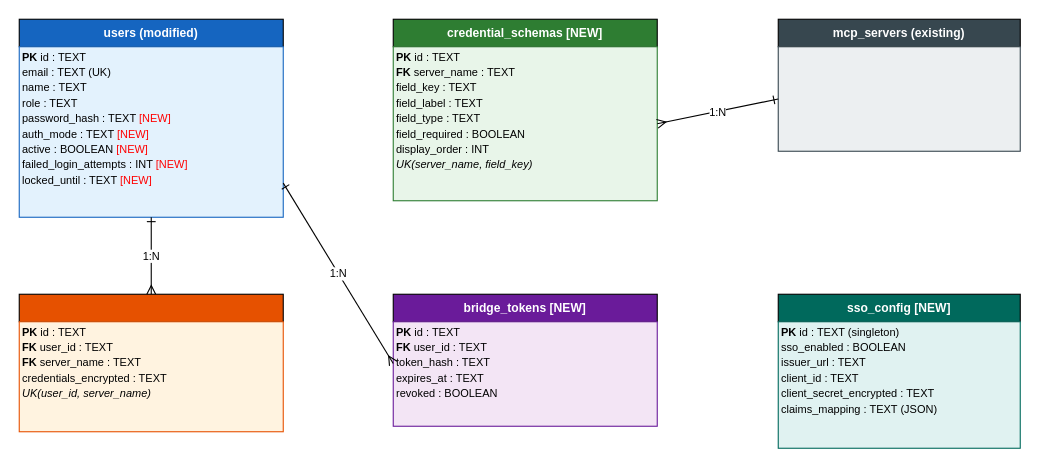
This 1040x468 diagram has some shape labels left out. The box of each missing label's shape, as (x1, y1, x2, y2) in pixels:
PK id : TEXT name : TEXT (UK) command : TEXT args : TEXT transport : TEXT: (777, 46, 1020, 151)
user_credentials [NEW]: (18, 293, 283, 322)
